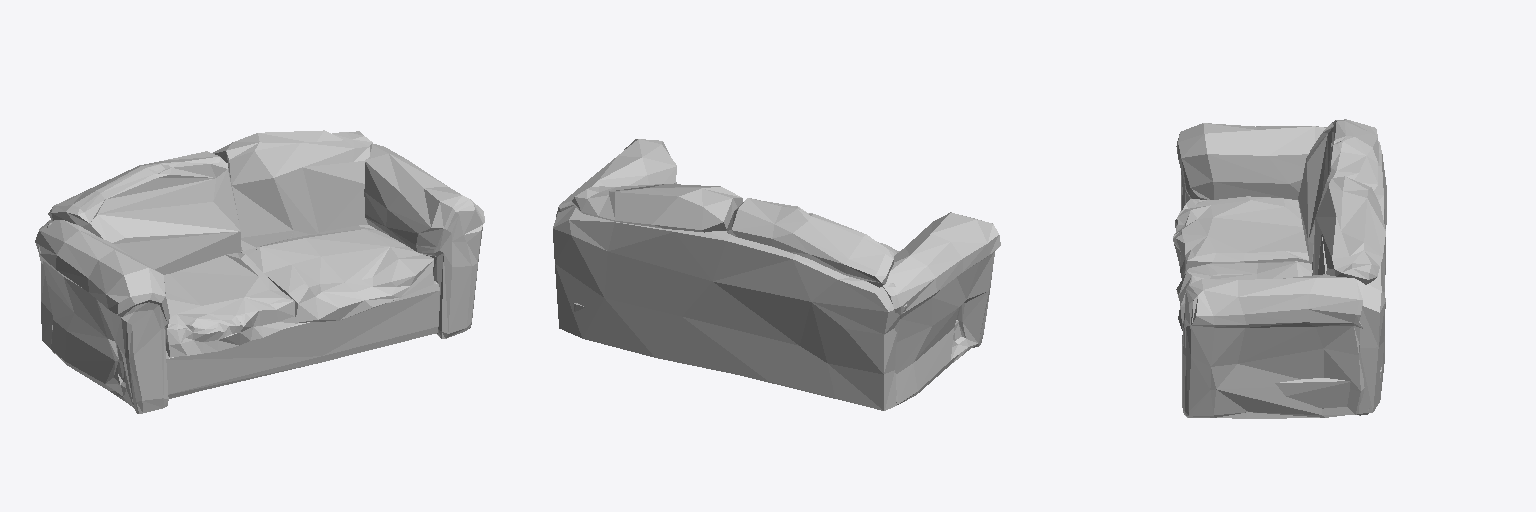
File: All1.obj
3 views of the same model, side by side, from view 1: azimuth 30°, elevation 25°; view 2: azimuth 150°, elevation 25°; view 3: azimuth 270°, elevation 25° (orthographic).
Parts seen in each view (by area): view 1: mesh01; view 2: mesh01; view 3: mesh01.
Boxes of the visible parts, <box> form: mesh01: <box>35,130,484,413</box>; mesh01: <box>553,139,1000,410</box>; mesh01: <box>1173,119,1386,418</box>.
Size of the model in its own units: 2.17 by 0.9492 by 1.09.